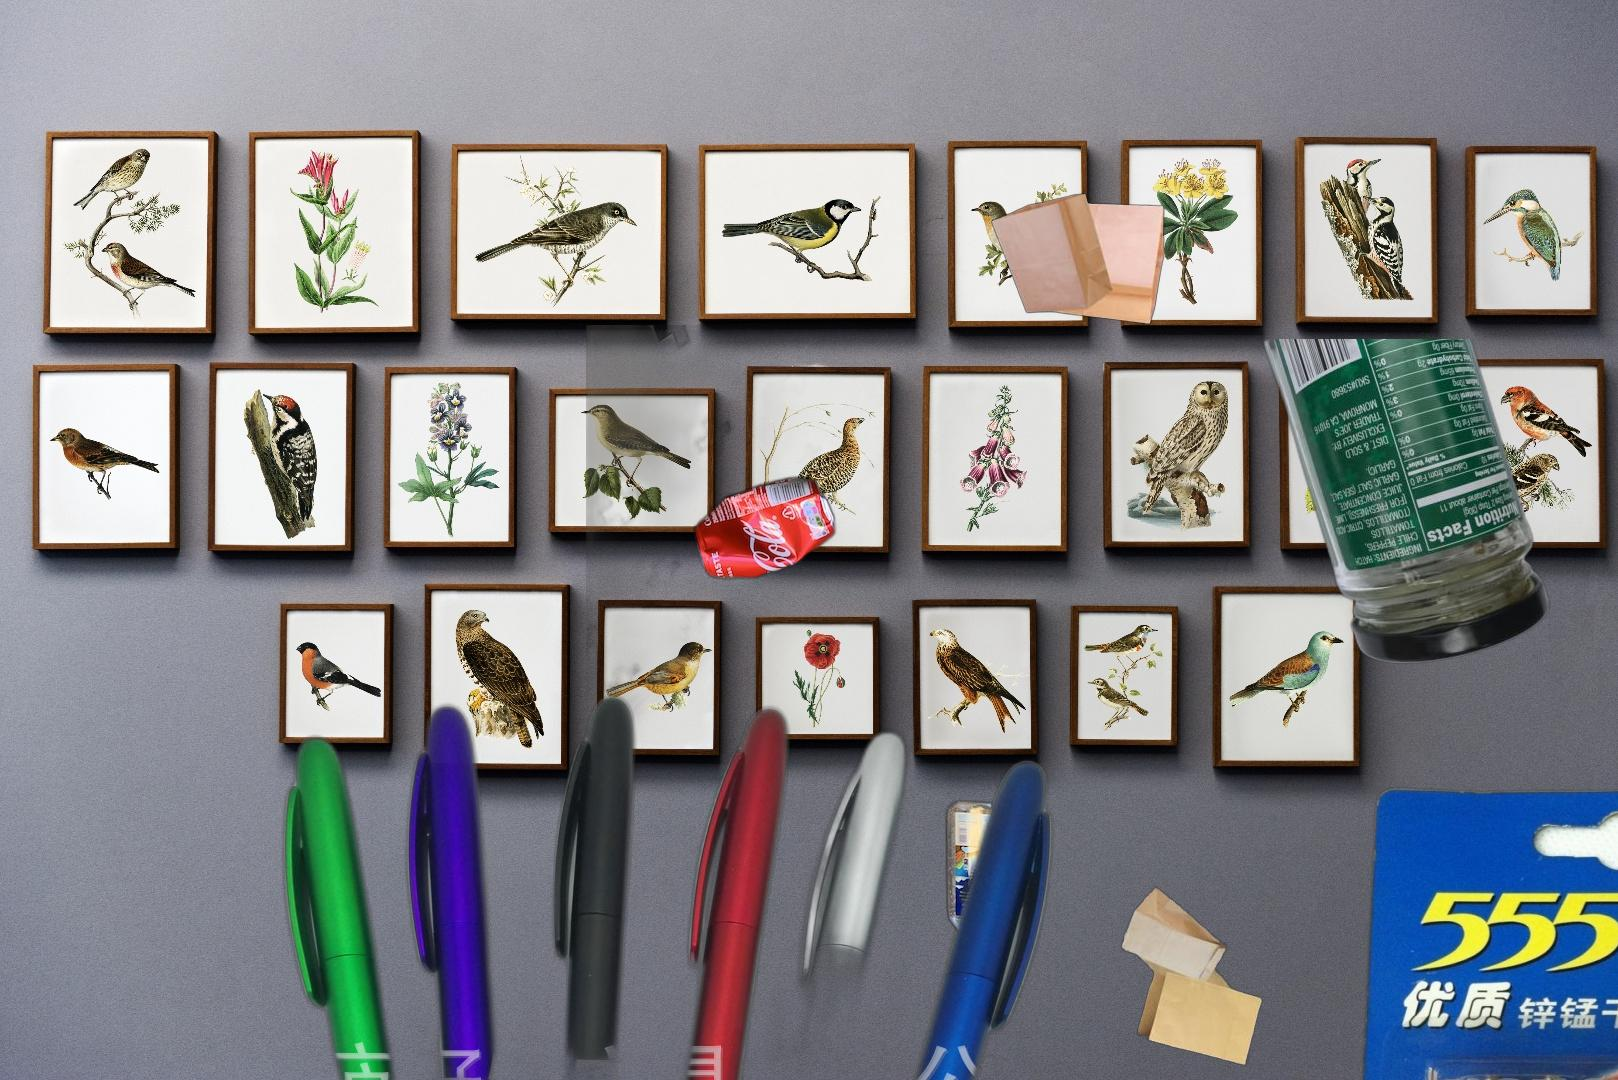battery: (1323, 777, 1618, 1080)
glass: (1259, 339, 1554, 667)
metal-cans: (689, 471, 840, 585)
paper-bag: (1119, 884, 1265, 1068), (990, 190, 1167, 327)
penholder: (273, 688, 1108, 1080)
plastic-bottles: (586, 325, 1093, 1008)
trashbox-cardboard: (1367, 974, 1618, 1080)
